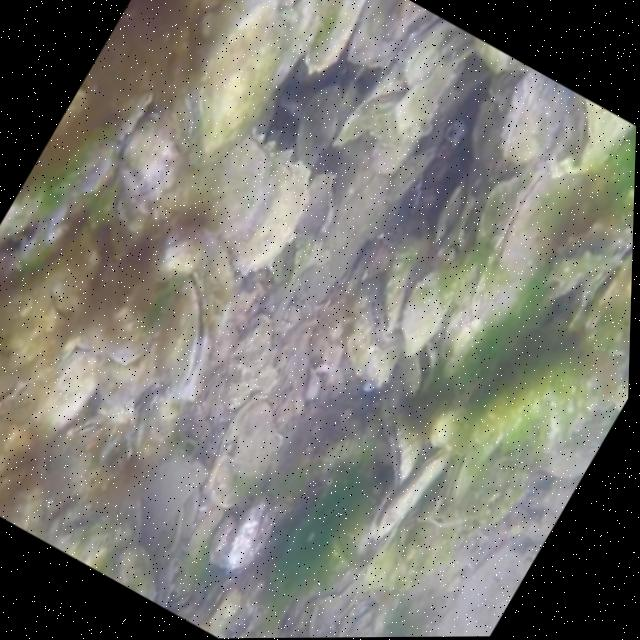Oyster-Closed: (205, 127, 310, 274), (367, 446, 452, 543), (166, 269, 212, 397), (397, 15, 459, 87), (77, 325, 158, 363), (366, 282, 404, 350), (390, 419, 425, 490), (125, 391, 151, 457), (207, 580, 241, 624), (66, 416, 103, 437)
Oyster-Indeterminate: (196, 0, 285, 161), (207, 398, 276, 504), (346, 270, 400, 389), (502, 70, 570, 162), (350, 0, 435, 64), (380, 234, 434, 332), (402, 269, 454, 357), (121, 121, 176, 198), (306, 0, 365, 71), (42, 352, 97, 428), (219, 497, 277, 568), (296, 86, 341, 167), (111, 545, 156, 603), (393, 150, 436, 198)
Oyster-Open: (566, 232, 633, 333), (551, 224, 633, 280), (398, 345, 441, 401), (443, 31, 478, 65)
